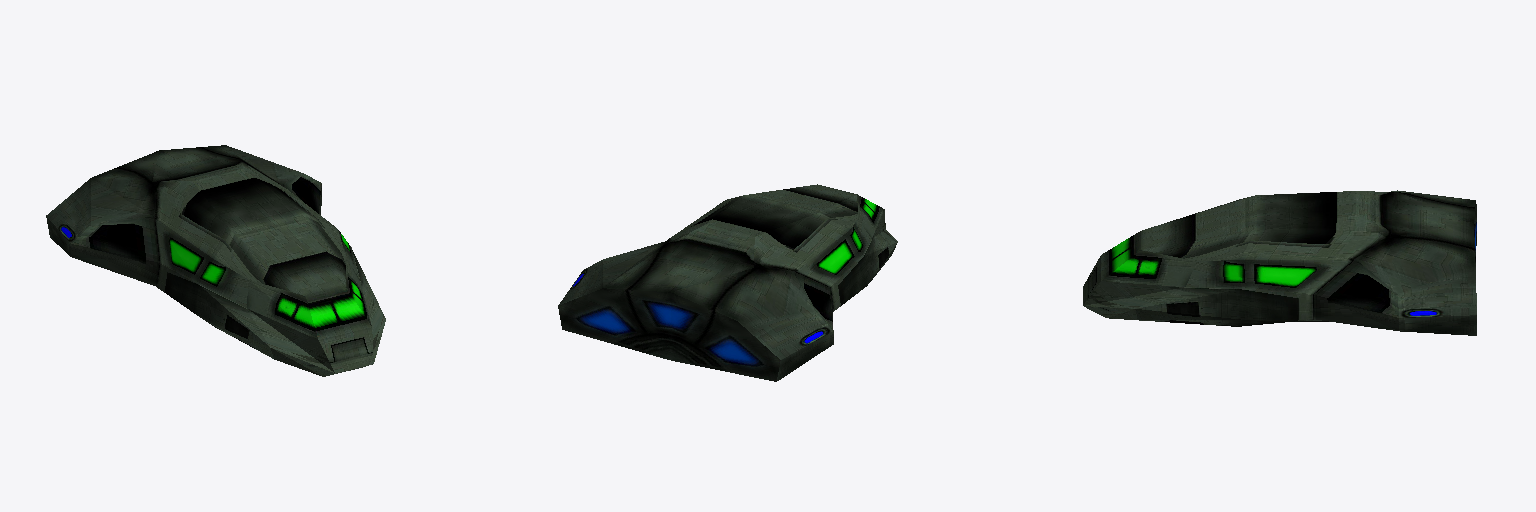
3 views of the same model, side by side, from view 1: azimuth 30°, elevation 25°; view 2: azimuth 150°, elevation 25°; view 3: azimuth 270°, elevation 25° (orthographic).
Visible parts, largest first — view 1: Shuttle02; view 2: Shuttle02; view 3: Shuttle02.
Boxes of the visible parts, x1=… form: Shuttle02: x1=46, y1=145, x2=385, y2=376; Shuttle02: x1=558, y1=184, x2=897, y2=381; Shuttle02: x1=1083, y1=190, x2=1476, y2=335.
Bounding box in the file's own units: 383 × 155 × 523.
Materials: 1 (1 with a texture image).